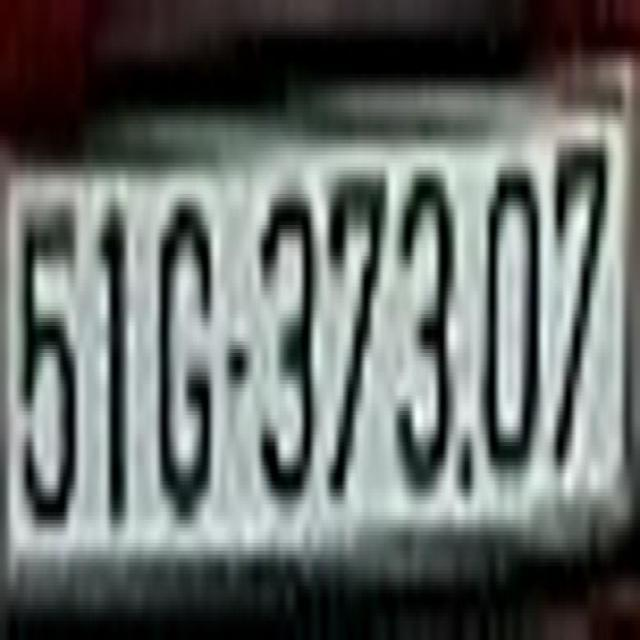0: (482, 109, 542, 512)
1: (90, 171, 143, 544)
3: (393, 101, 453, 512), (256, 140, 318, 520)
5: (19, 186, 84, 551)
7: (322, 132, 388, 516), (549, 81, 608, 492)
G: (152, 163, 216, 539)
